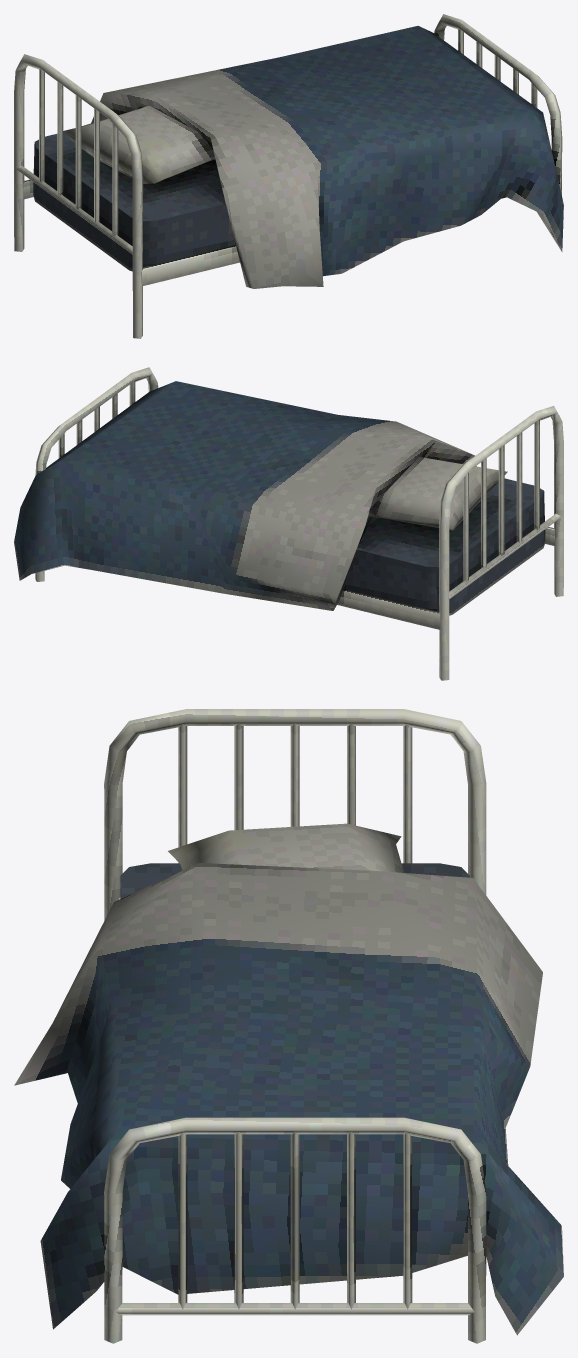
The model's file is bed_psx.glb.
3 renders of one model, top to bottom at view 1: azimuth 30°, elevation 25°; view 2: azimuth 150°, elevation 25°; view 3: azimuth 270°, elevation 25°, orthographic. The views are drawn at different scales.
Visible parts, largest first — view 1: BedLow_0; view 2: BedLow_0; view 3: BedLow_0.
Part boxes in pixels (x1,y1,x2,y2): BedLow_0: (14, 14, 563, 338); BedLow_0: (14, 367, 563, 680); BedLow_0: (14, 709, 563, 1343).
Bounding box in the file's own units: 2.24 × 0.9983 × 1.56.
1 material, 1 textured.
